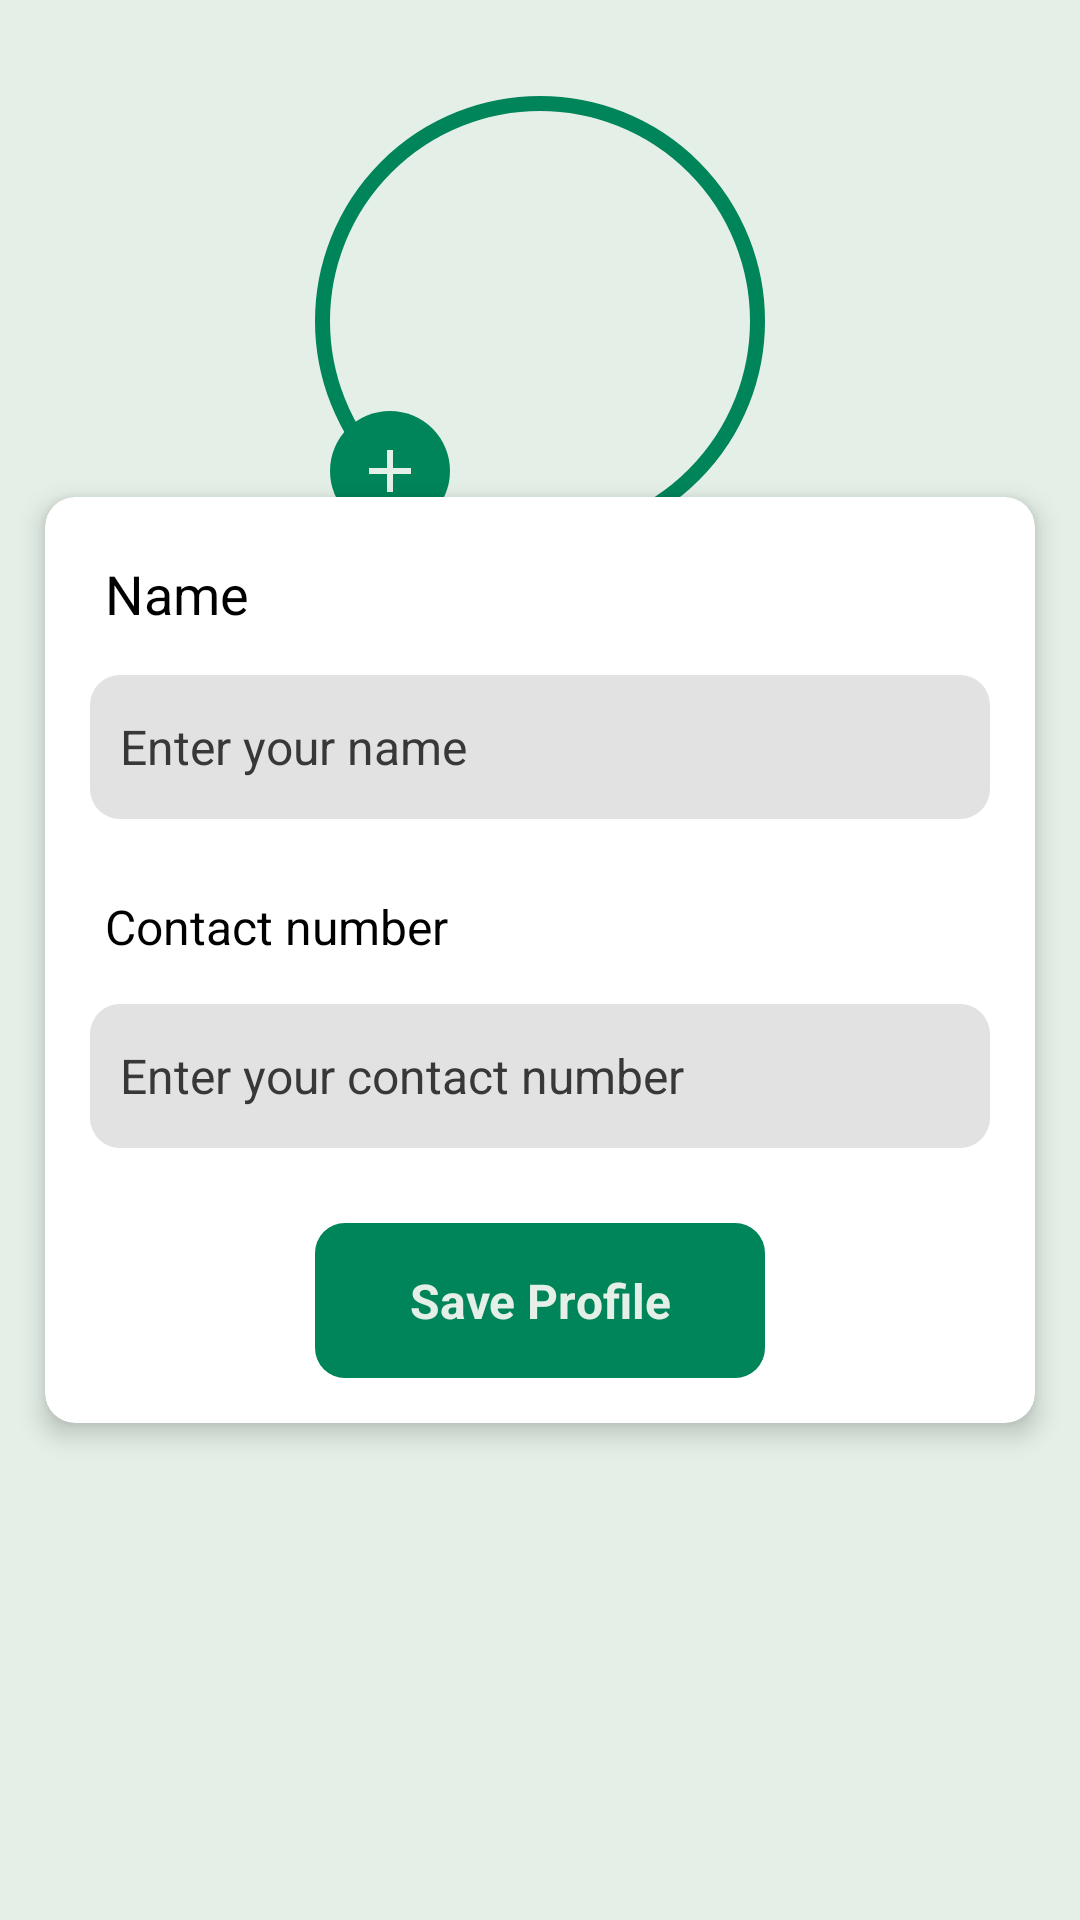

Screen size 1080×1920. Icon name, then its center in pixels as [x,y]:
Add Profile Picture: [390,471]
